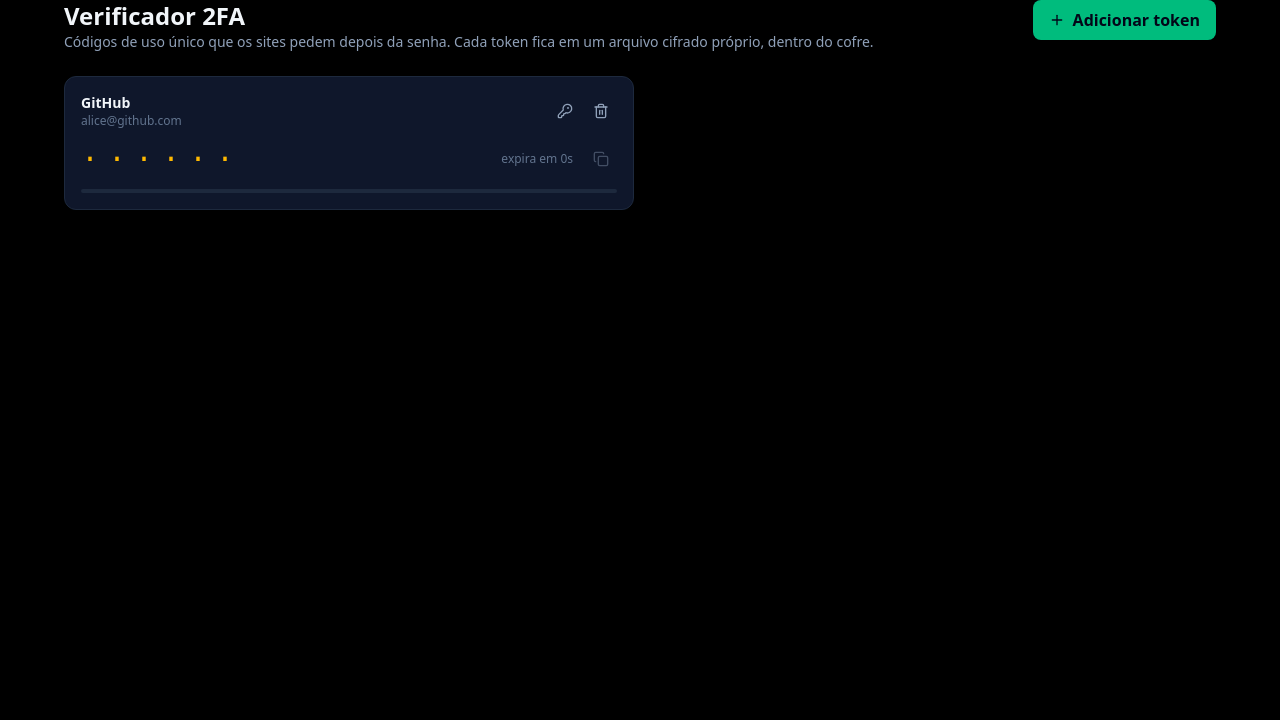
it: tela do verificador 2FA › exclui o token depois de confirmar, e some da lista
The image size is (1280, 720).
Expected: the text "GitHub" is shown, x1=81 y1=93 x2=130 y2=112
Click the button titled "Excluir". click: (601,111)
box: x1=585 y1=95 x2=617 y2=127
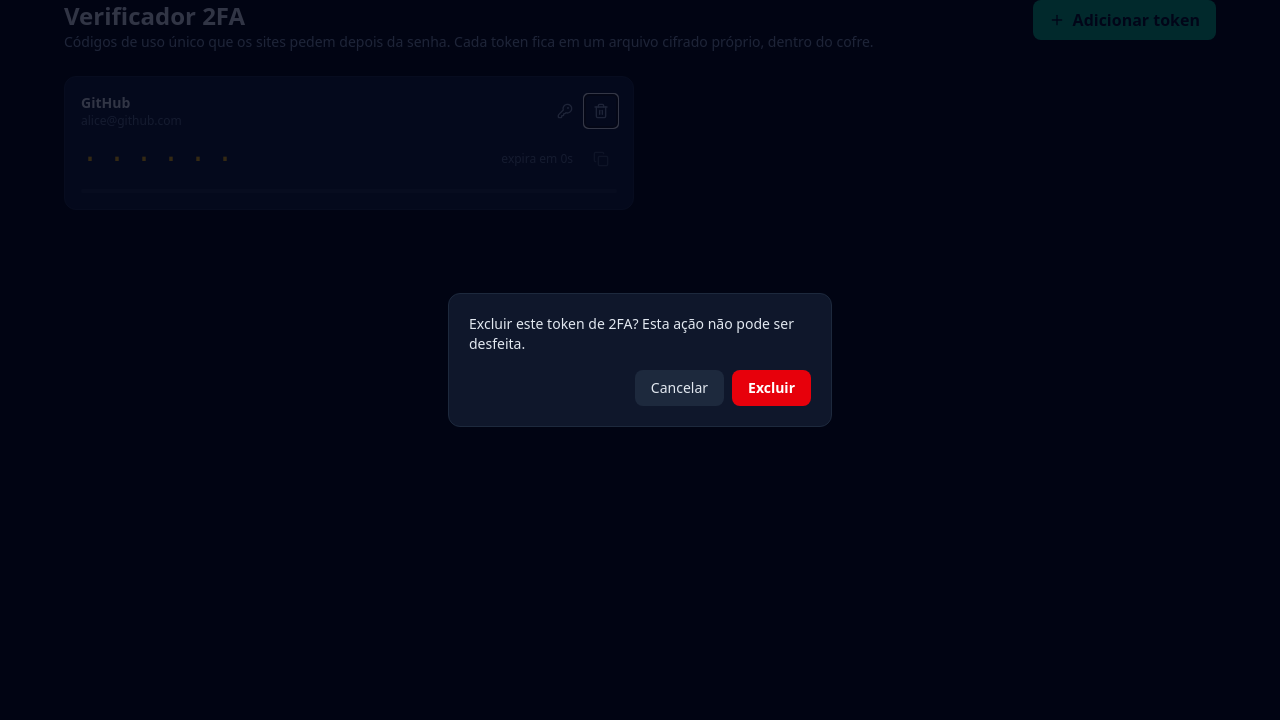
Expected: the text "Excluir este token de 2FA? Esta ação não pode ser desfeita." is shown, x1=469 y1=314 x2=811 y2=354
Click the button "Excluir". click: (772,388)
box: x1=732 y1=370 x2=811 y2=406
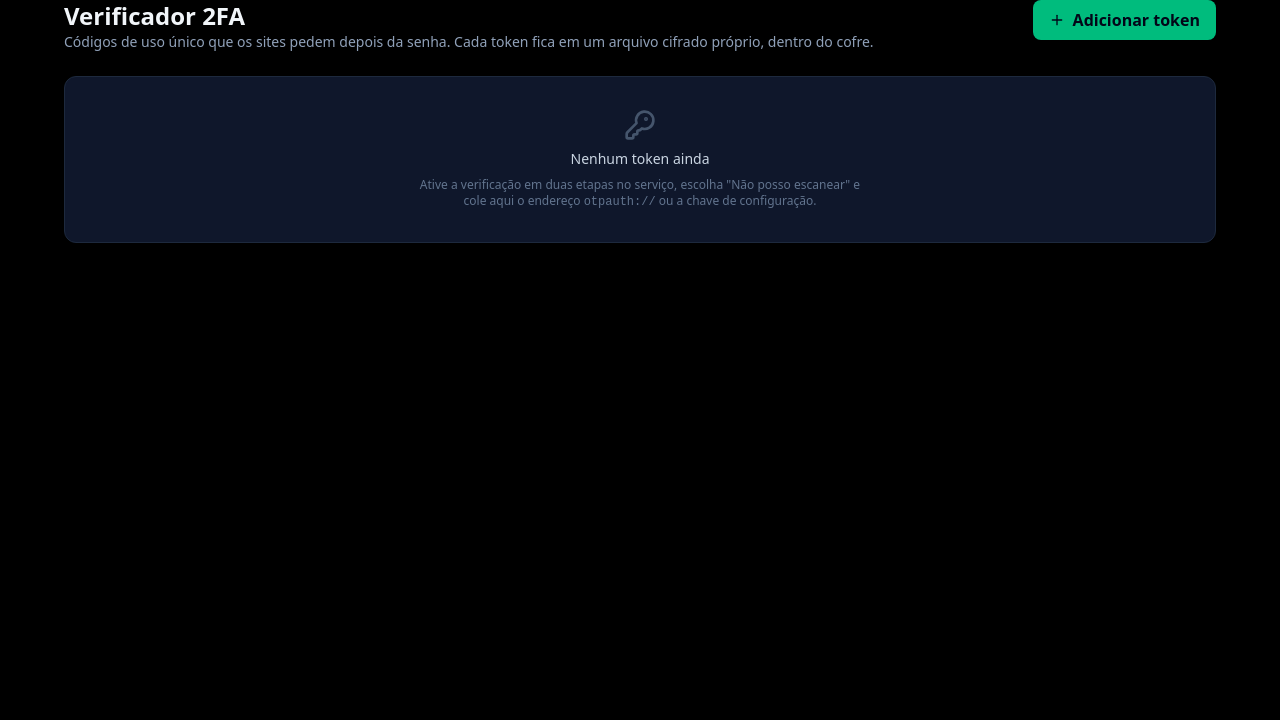
Expected: the text "Nenhum token ainda" is shown, x1=570 y1=149 x2=710 y2=168
